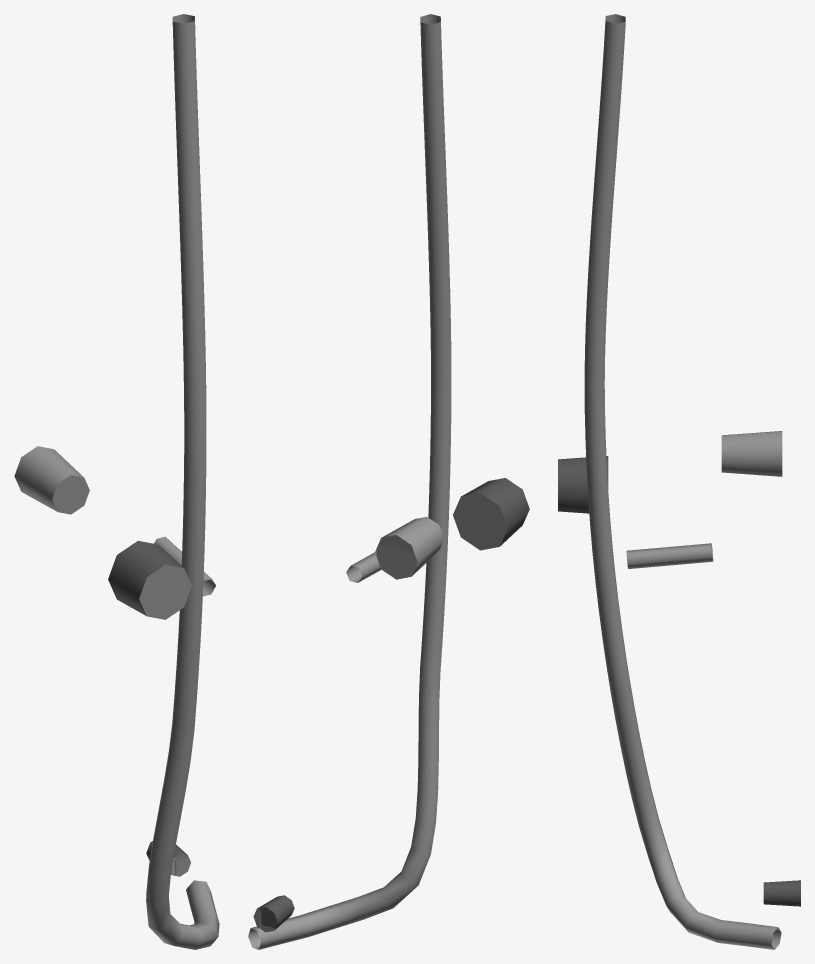
The picture shows the model from 3 angles, left to right: view 1: azimuth 30°, elevation 25°; view 2: azimuth 150°, elevation 25°; view 3: azimuth 270°, elevation 25°; orthographic projection. The views are drawn at different scales.
Size of the model in its own units: 0.1739 by 0.8406 by 0.2085.
